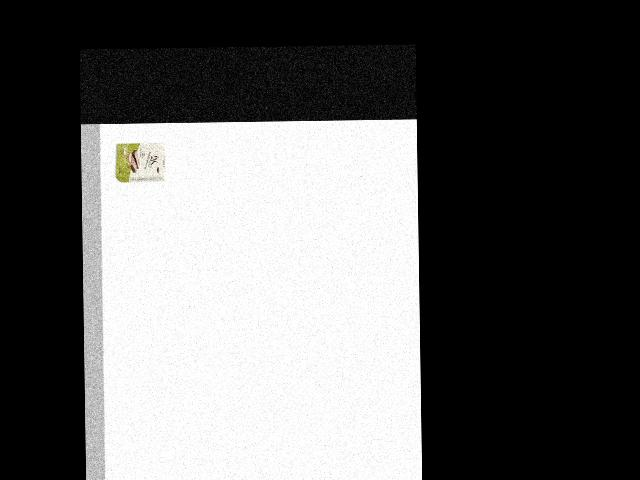chocolate: (112, 138, 166, 185)
